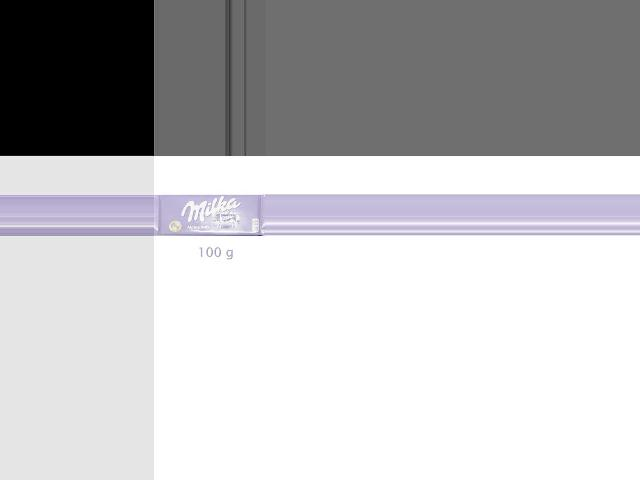chocolate: (157, 193, 266, 243)
